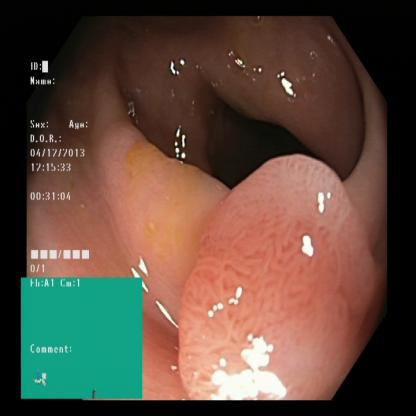Labels: (28, 56, 98, 279), (20, 278, 142, 398)
Polyps: (179, 163, 364, 394)
